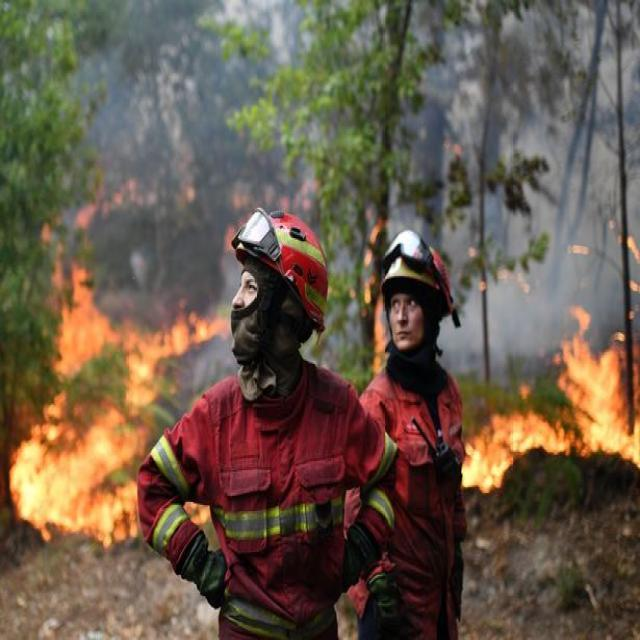Fire: (10, 171, 226, 549), (453, 251, 640, 509)
Smoke: (436, 148, 640, 356)
